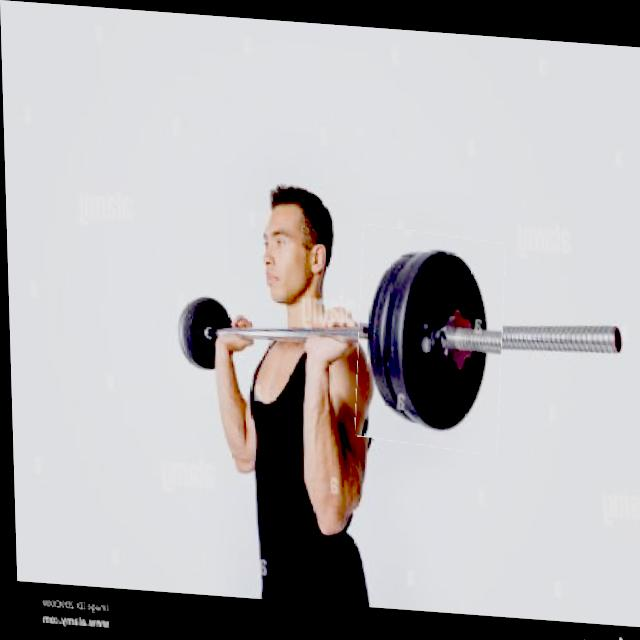barbell: (352, 221, 506, 447)
